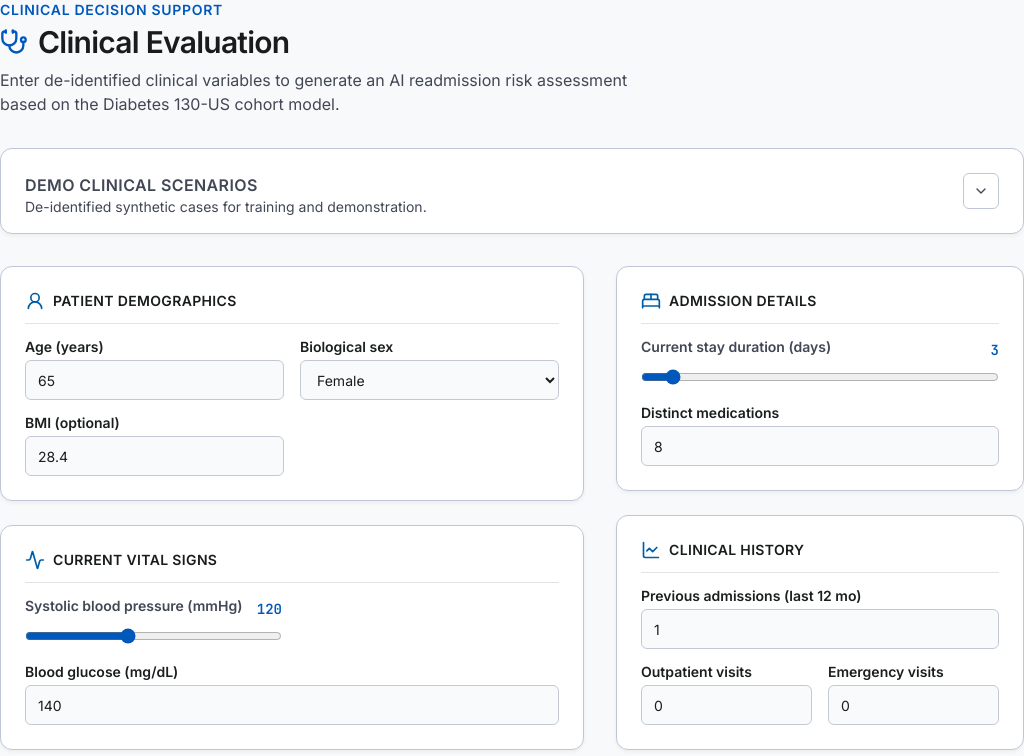
it: EvaluationPage › demo playbook (T-907-04) › shows simulation demo tip only on the showcase scenario card
This screenshot has width=1024, height=756.
What coordinates should you click on to do the following:
click the button named "show demo clinical scenarios"
I would click on:
 (981, 191)
Its box is [963,173,999,209].
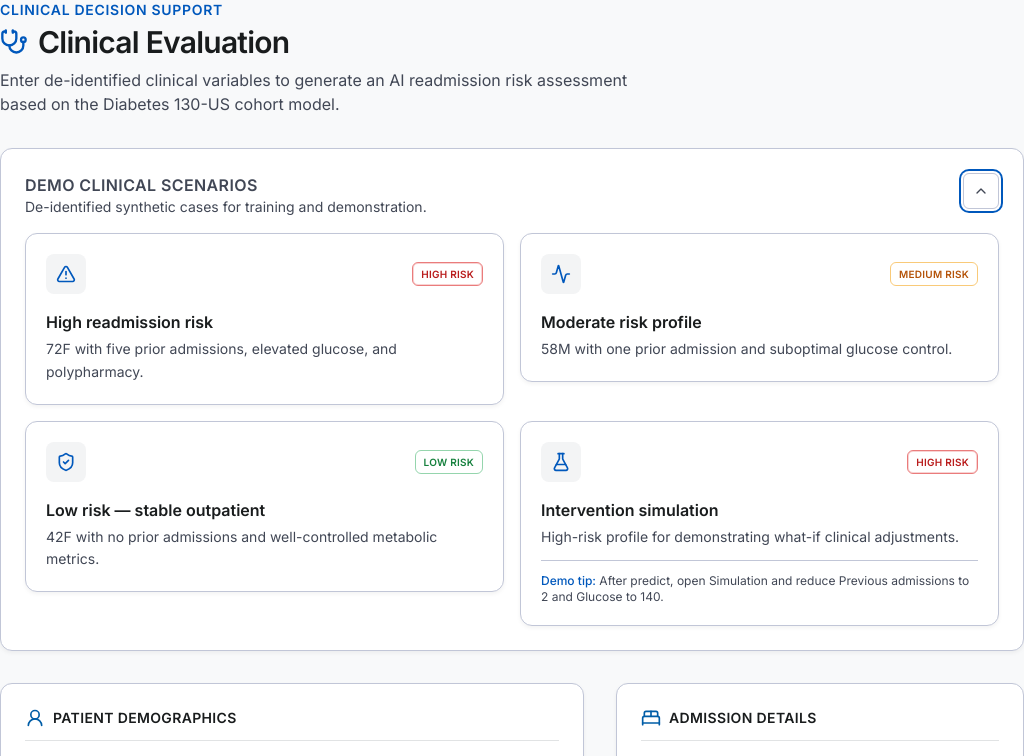
Expected: the text "Demo tip:" is shown once, [541,573,596,588]
Expected: the text "reduce Previous admissions to 2" is shown, [541,573,969,604]
